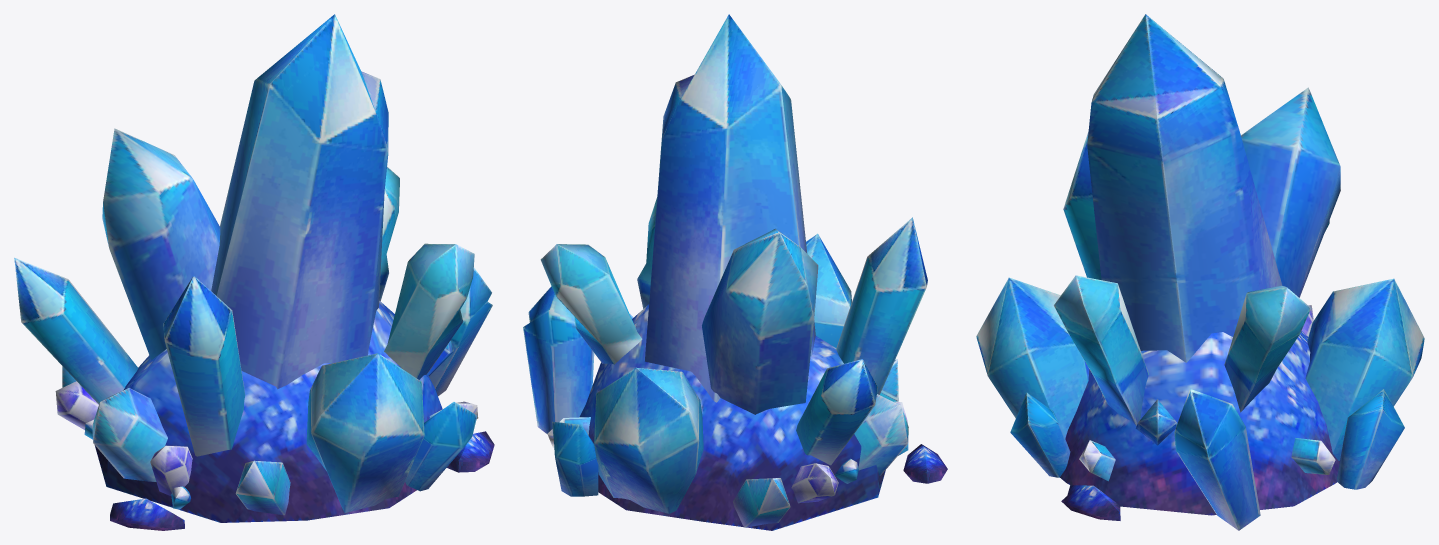
3 views of the same model, side by side, from view 1: azimuth 30°, elevation 25°; view 2: azimuth 150°, elevation 25°; view 3: azimuth 270°, elevation 25° (orthographic). The views are drawn at different scales.
Visible parts, largest first — view 1: MC_10009; view 2: MC_10009; view 3: MC_10009.
Part boxes in pixels (x1,y1,x2,y2): MC_10009: [14, 14, 494, 530]; MC_10009: [523, 14, 947, 530]; MC_10009: [976, 14, 1424, 530].
Size of the model in its own units: 0.5265 by 0.5313 by 0.4898.
Materials: 1 (1 with a texture image).
